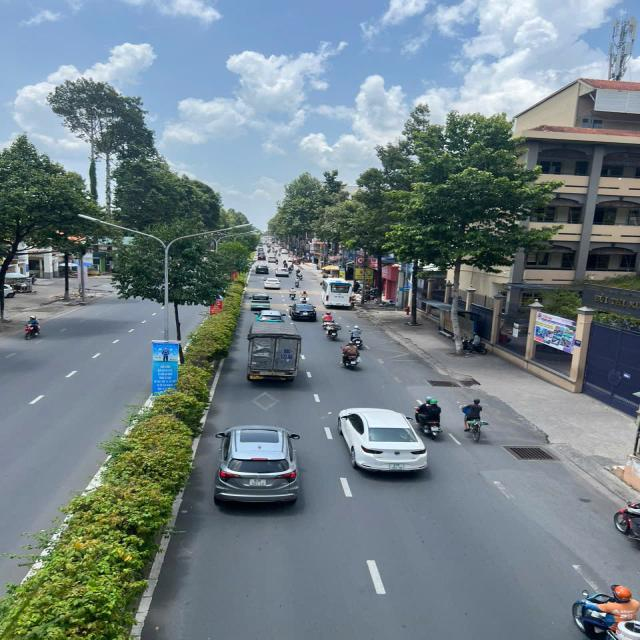car: (211, 417, 306, 517), (334, 401, 434, 479), (318, 275, 362, 311), (288, 298, 320, 323), (247, 288, 274, 312), (261, 274, 281, 291)
motobyte: (562, 575, 640, 640), (412, 392, 447, 440), (336, 336, 366, 372), (16, 311, 50, 342), (321, 316, 342, 342), (351, 324, 370, 351)
